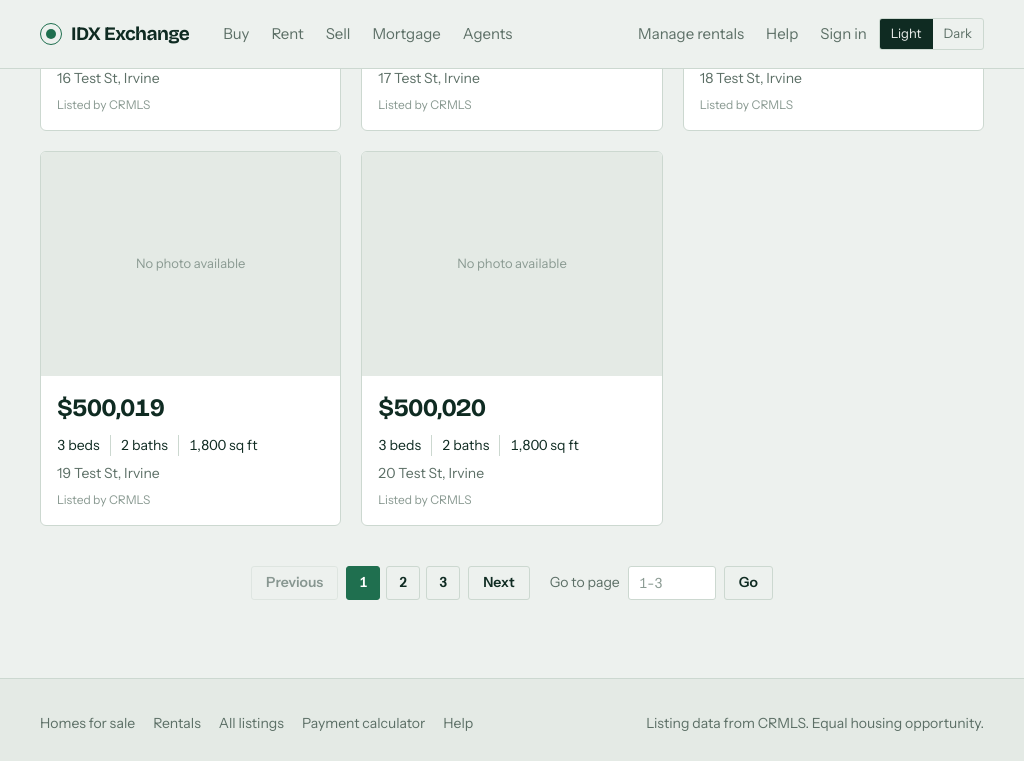
Test case: ListingsPage pagination › the last page summary shows the real end of a partial page
(page scrolled)
What coordinates should you click on to do the following:
click the button named "Page 3"
I would click on:
 (443, 583)
Its box is left=426, top=566, right=460, bottom=600.
(page scrolled)
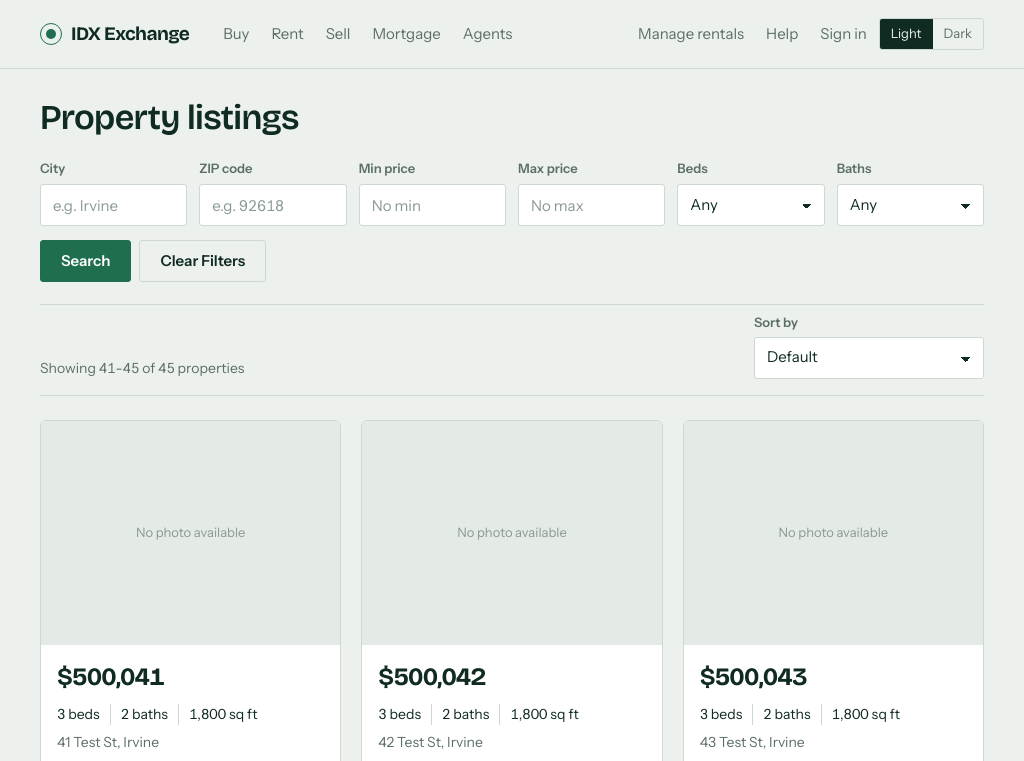
Expected: the text "Showing 41-45 of 45 properties" is shown, left=40, top=358, right=244, bottom=379
